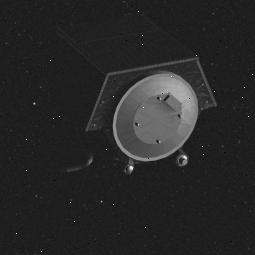cheops: (2, 0, 224, 180)
